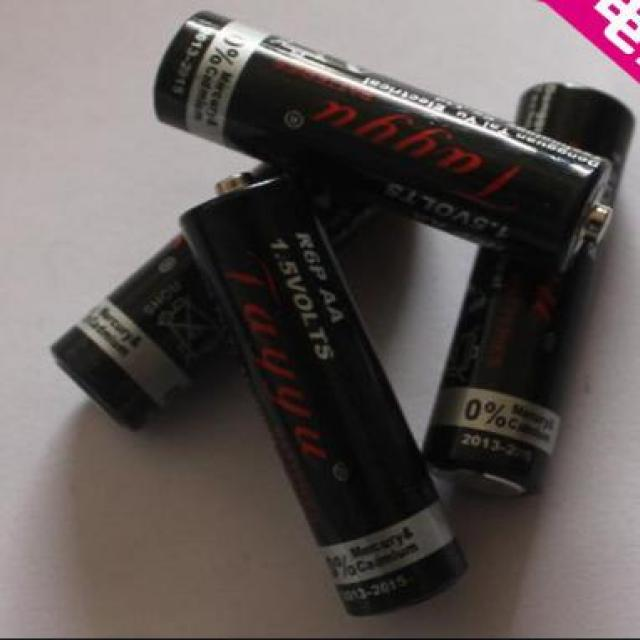-Hazardous waste - battery-: (175, 167, 474, 615), (158, 9, 620, 274)
